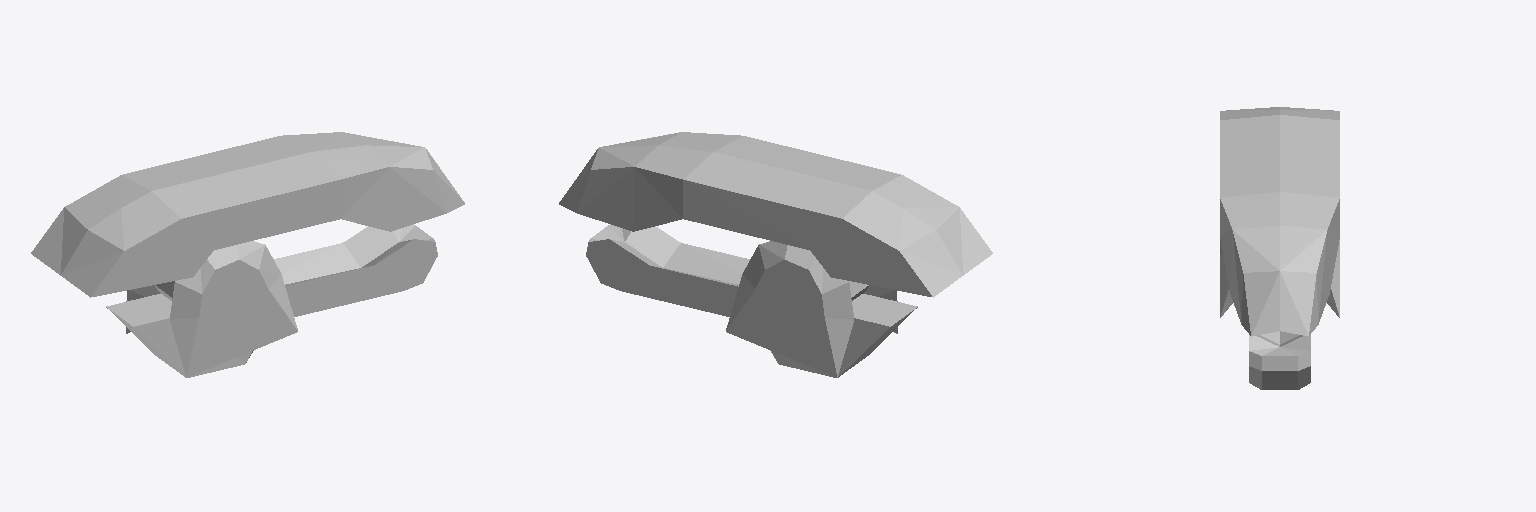
The model's file is cannon.obj.
3 renders of one model, left to right at view 1: azimuth 30°, elevation 25°; view 2: azimuth 150°, elevation 25°; view 3: azimuth 270°, elevation 25°, orthographic.
Visible parts, largest first — view 1: ungrouped; view 2: ungrouped; view 3: ungrouped.
Boxes of the visible parts, box(x1,y1,x2,y2) form: ungrouped: box(31, 132, 464, 377); ungrouped: box(559, 132, 992, 377); ungrouped: box(1220, 107, 1339, 389).
Size of the model in its own units: 3.21 by 1.42 by 0.8561.